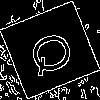Q: (24, 25, 85, 80)
